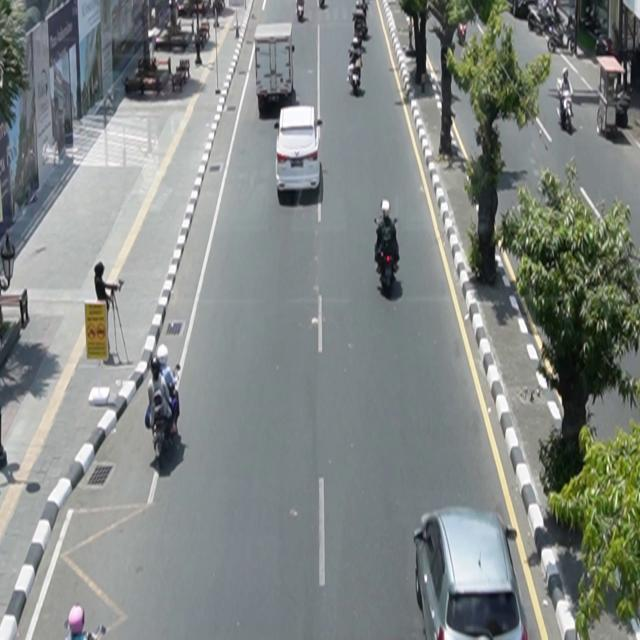car: (414, 507, 530, 640), (275, 105, 324, 194)
